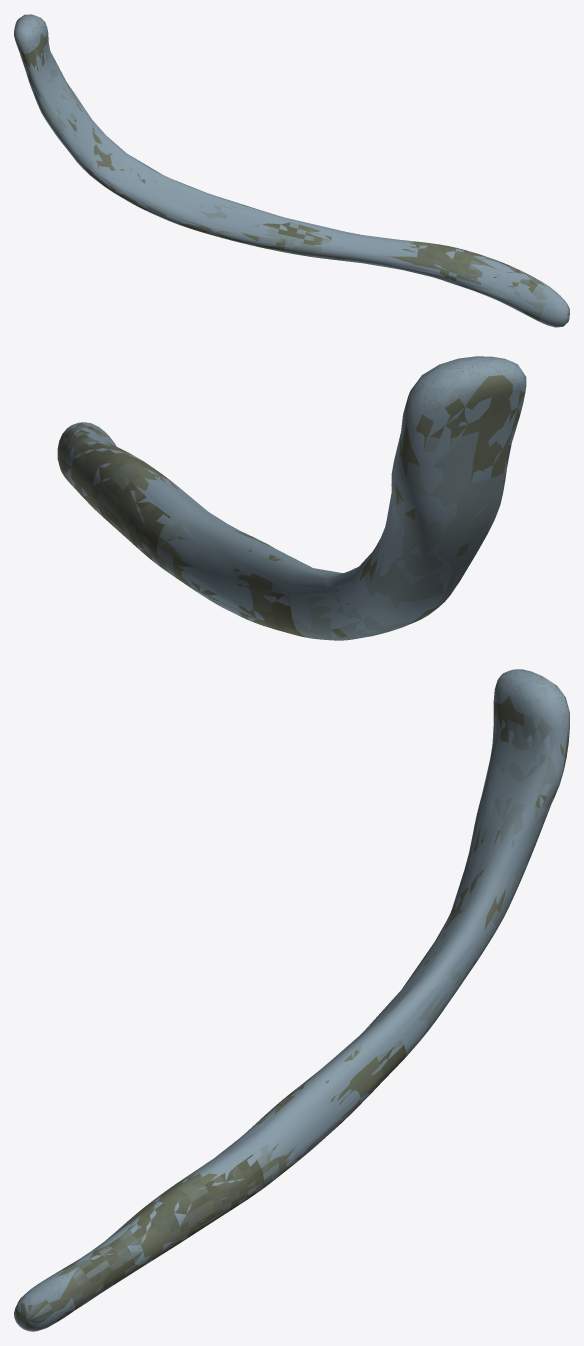
3 views of the same model, one above another, from view 1: azimuth 30°, elevation 25°; view 2: azimuth 150°, elevation 25°; view 3: azimuth 270°, elevation 25° (orthographic). The views are drawn at different scales.
Visible parts, largest first — view 1: CC R09, CC R09 low, CC R09 high; view 2: CC R09 high, CC R09, CC R09 low; view 3: CC R09 high, CC R09 low, CC R09.
Boxes of the visible parts, bbox=[...] form: CC R09: bbox=[14, 14, 569, 327]; CC R09 low: bbox=[28, 43, 523, 310]; CC R09 high: bbox=[14, 15, 569, 325]; CC R09 high: bbox=[57, 357, 526, 640]; CC R09: bbox=[60, 356, 526, 638]; CC R09 low: bbox=[107, 421, 502, 608]; CC R09 high: bbox=[14, 671, 569, 1331]; CC R09 low: bbox=[96, 722, 555, 1247]; CC R09: bbox=[14, 669, 569, 1331].
Size of the model in its own units: 15.43 by 10.25 by 13.01.
